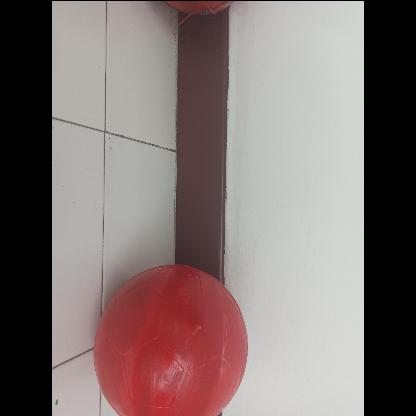red_ball: (92, 266, 254, 416)
